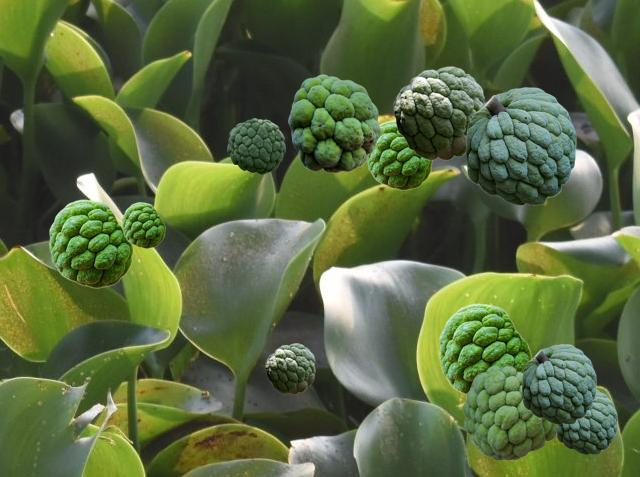atis: (466, 87, 575, 204), (288, 74, 380, 172), (462, 366, 558, 459), (393, 66, 484, 159), (439, 303, 531, 394), (49, 199, 132, 287), (522, 344, 595, 423), (367, 120, 431, 189), (556, 389, 616, 453), (227, 118, 284, 173), (265, 343, 314, 393), (122, 202, 164, 247)
